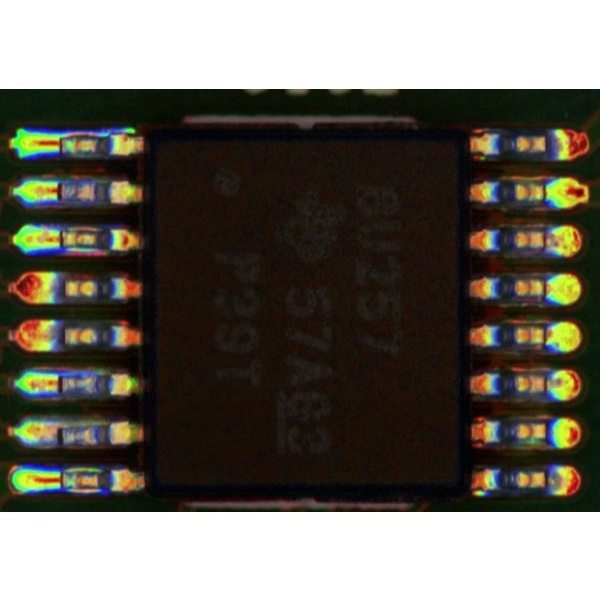Bad_podu: (536, 325, 554, 343), (51, 181, 67, 200), (537, 230, 552, 248), (49, 427, 68, 441), (53, 375, 68, 391), (537, 279, 553, 294), (55, 471, 68, 489), (52, 136, 68, 149), (55, 231, 68, 245)
Bad_qiaojiao: (62, 125, 138, 134)
